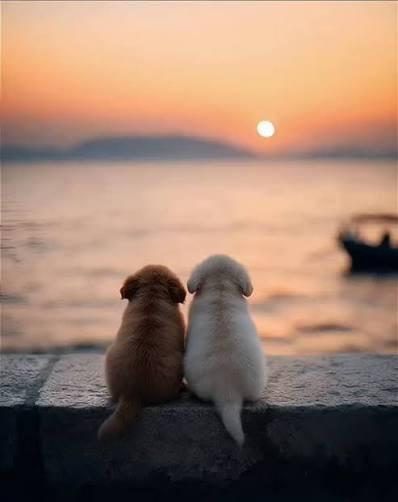puppy-dog: (95, 264, 188, 442), (183, 255, 267, 448)
